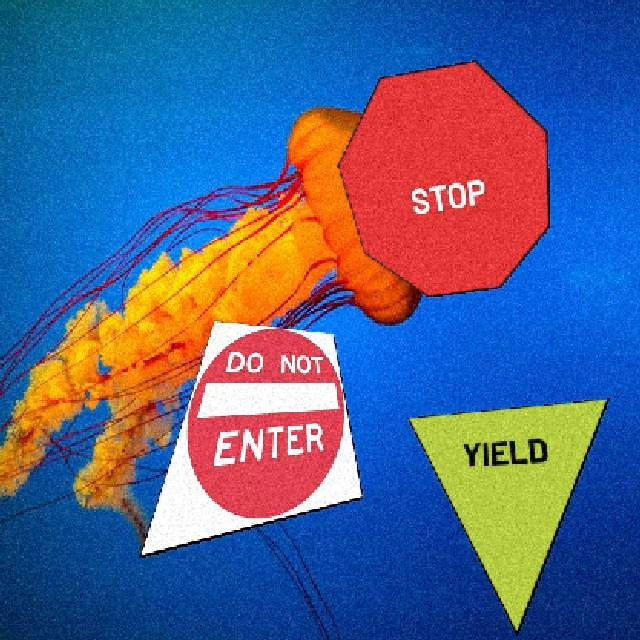DO_NOT_ENTER: (137, 319, 362, 557)
STOP: (336, 58, 549, 296)
YIELD: (406, 397, 608, 635)
